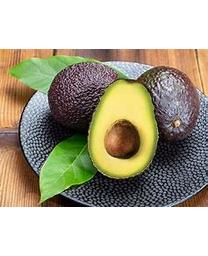avocado: (85, 77, 161, 180), (46, 60, 125, 132), (131, 65, 200, 146)
